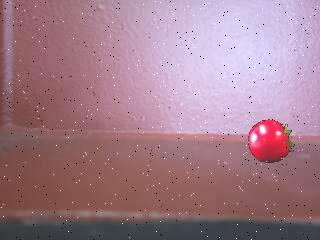Tomato: (246, 118, 297, 165)
